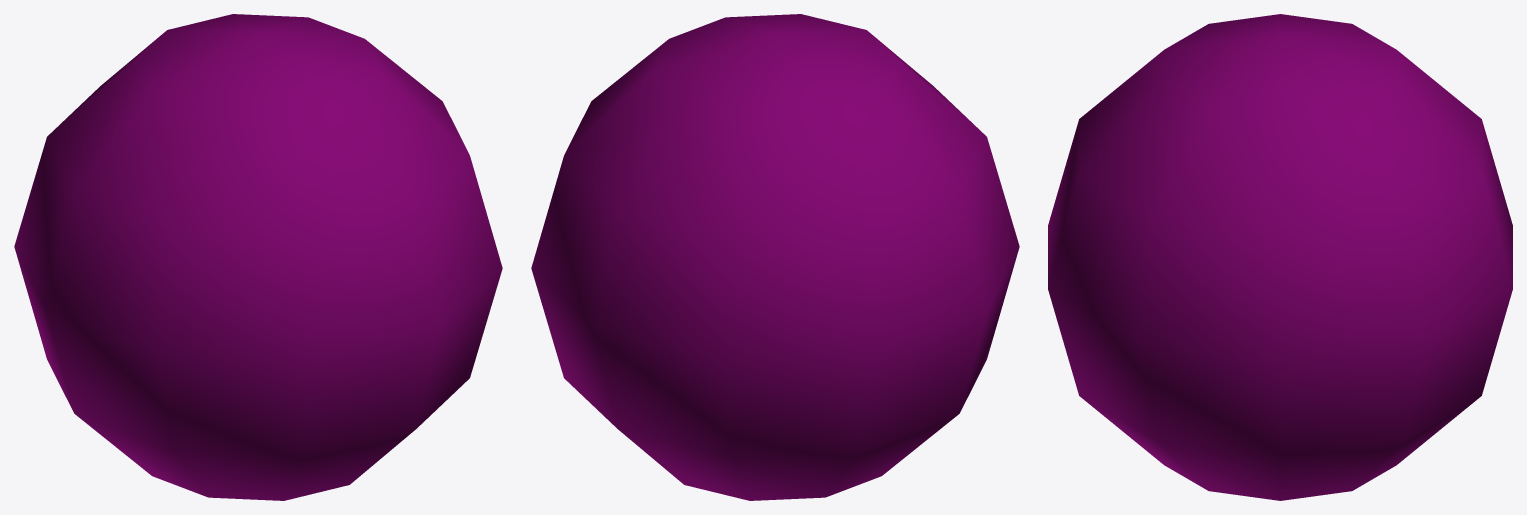
The model's file is purple.dae.
3 views of the same model, side by side, from view 1: azimuth 30°, elevation 25°; view 2: azimuth 150°, elevation 25°; view 3: azimuth 270°, elevation 25° (orthographic).
Visible parts, largest first — view 1: Regroup01; view 2: Regroup01; view 3: Regroup01.
Part boxes in pixels (x1,y1,x2,y2): Regroup01: [14, 14, 502, 500]; Regroup01: [531, 14, 1019, 500]; Regroup01: [1048, 14, 1512, 500].
Bounding box in the file's own units: 1.6 × 1.6 × 1.52.
